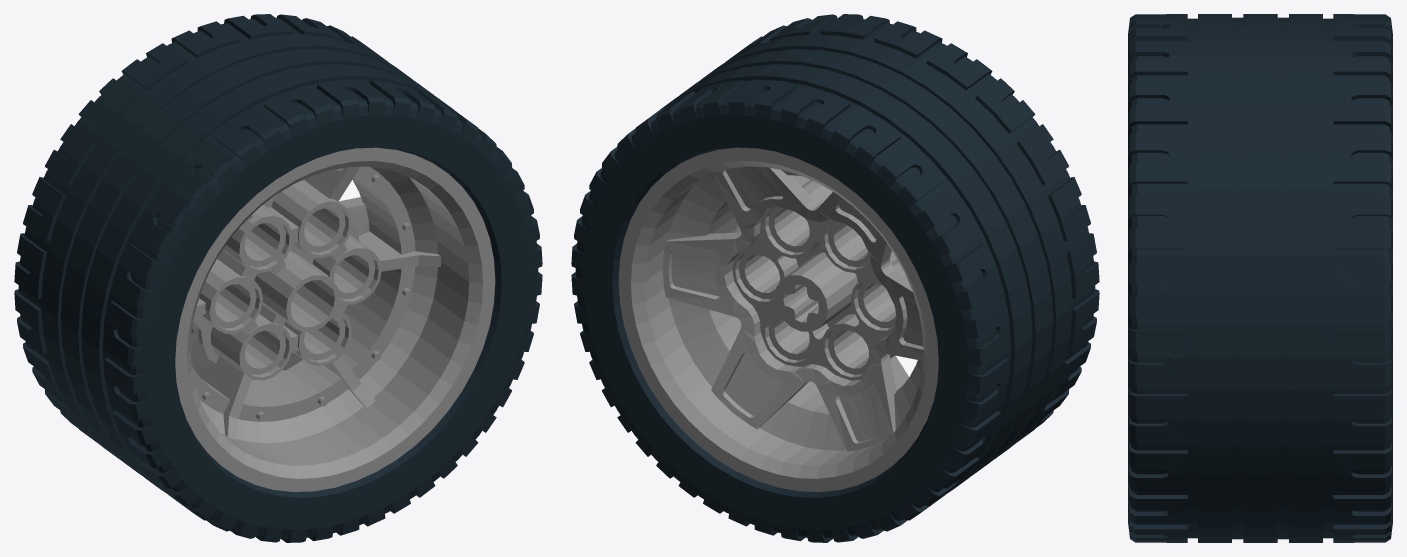
The model's file is wheel_56x28.obj.
The picture shows the model from 3 angles, left to right: view 1: azimuth 30°, elevation 25°; view 2: azimuth 150°, elevation 25°; view 3: azimuth 270°, elevation 25°; orthographic projection. The views are drawn at different scales.
Visible parts, largest first — view 1: wheel_56x28_1b2a34, wheel_56x28_969696; view 2: wheel_56x28_1b2a34, wheel_56x28_969696; view 3: wheel_56x28_1b2a34.
Boxes of the visible parts, bbox=[...] form: wheel_56x28_1b2a34: bbox=[14, 14, 542, 542]; wheel_56x28_969696: bbox=[175, 147, 495, 491]; wheel_56x28_1b2a34: bbox=[571, 14, 1099, 542]; wheel_56x28_969696: bbox=[618, 147, 938, 491]; wheel_56x28_1b2a34: bbox=[1128, 14, 1392, 542].
Bounding box in the file's own units: 56 × 56 × 28.
